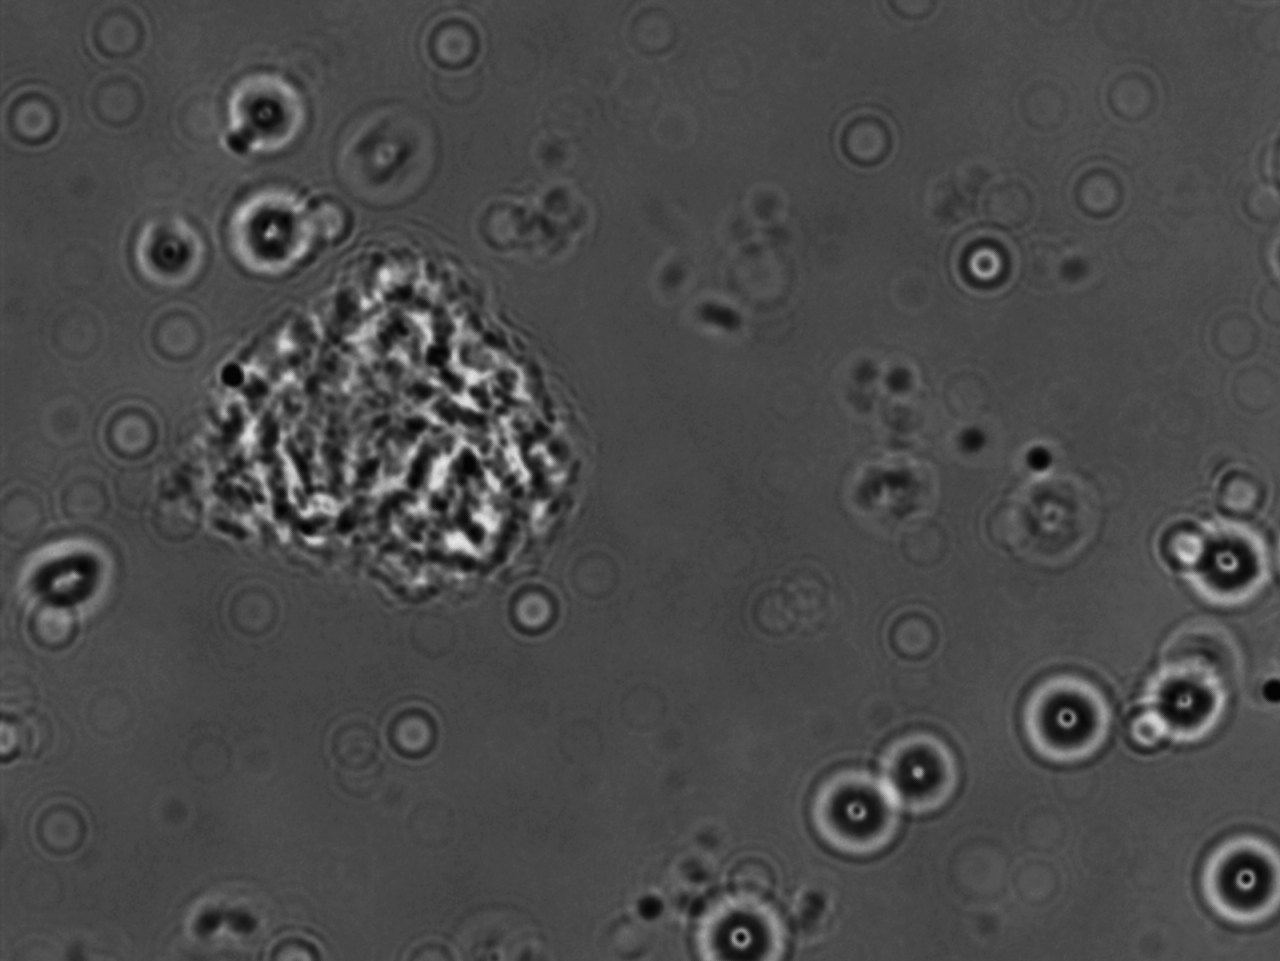depth:-8: (805, 763, 923, 876), (1128, 651, 1241, 768), (1011, 655, 1122, 775), (209, 175, 332, 279), (862, 722, 978, 832), (15, 526, 135, 627), (216, 61, 333, 162), (1171, 500, 1273, 615), (1180, 820, 1280, 937), (121, 205, 218, 298)
